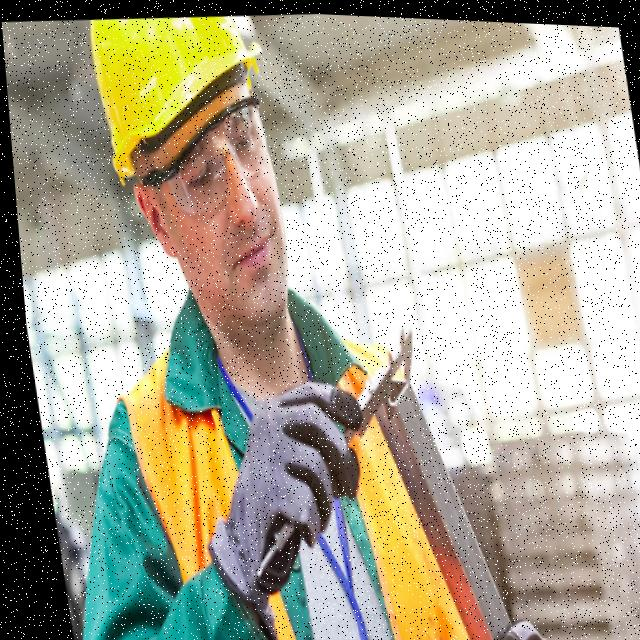illegal_helmet: (78, 6, 307, 355)
